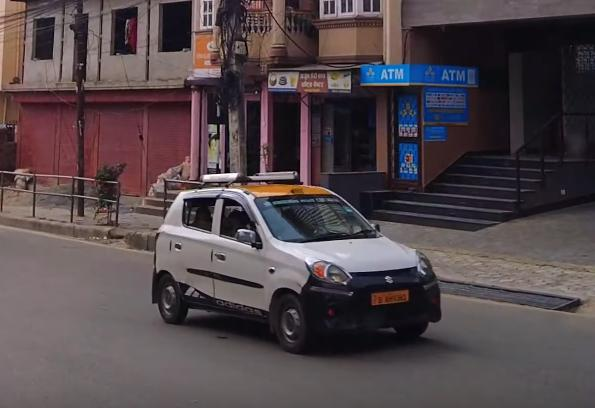taxi: (149, 162, 454, 362)
